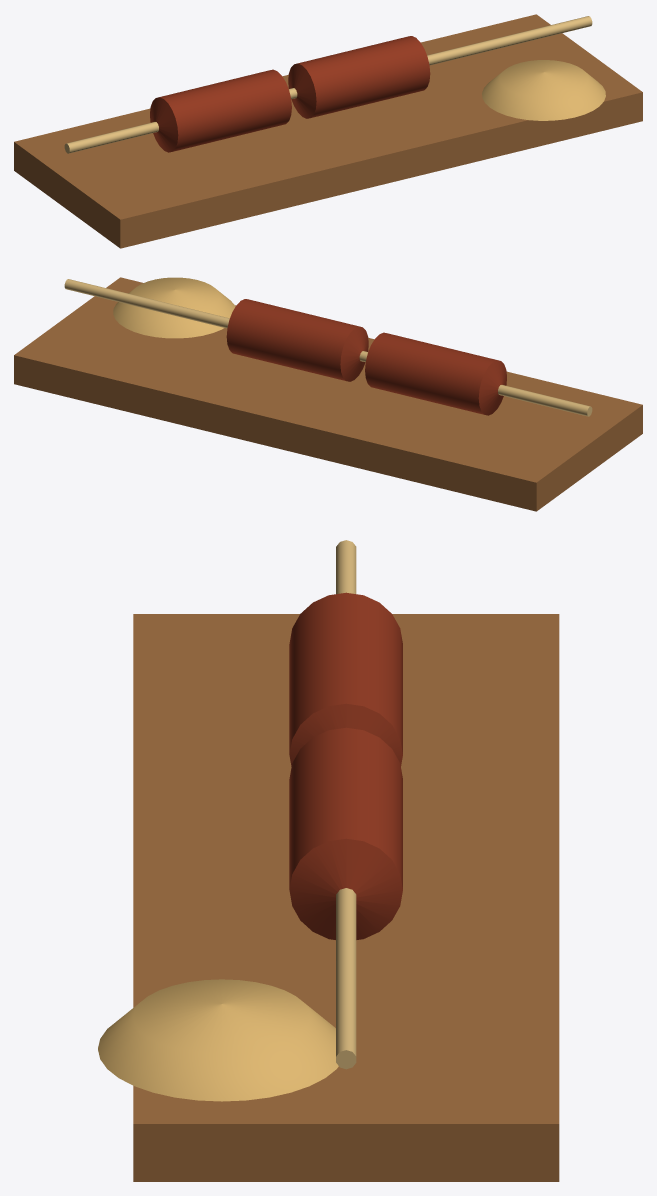
Rendered from espeto-linguica.glb.
3 renders of one model, top to bottom at view 1: azimuth 30°, elevation 25°; view 2: azimuth 150°, elevation 25°; view 3: azimuth 270°, elevation 25°, orthographic. The views are drawn at different scales.
Parts seen in each view (by area): view 1: espeto-linguica; view 2: espeto-linguica; view 3: espeto-linguica.
Part boxes in pixels (x1=…): espeto-linguica: x1=14, y1=14, x2=642, y2=248; espeto-linguica: x1=14, y1=277, x2=642, y2=511; espeto-linguica: x1=98, y1=540, x2=559, y2=1181.
Size of the model in its own units: 0.34 by 0.054 by 0.13.
